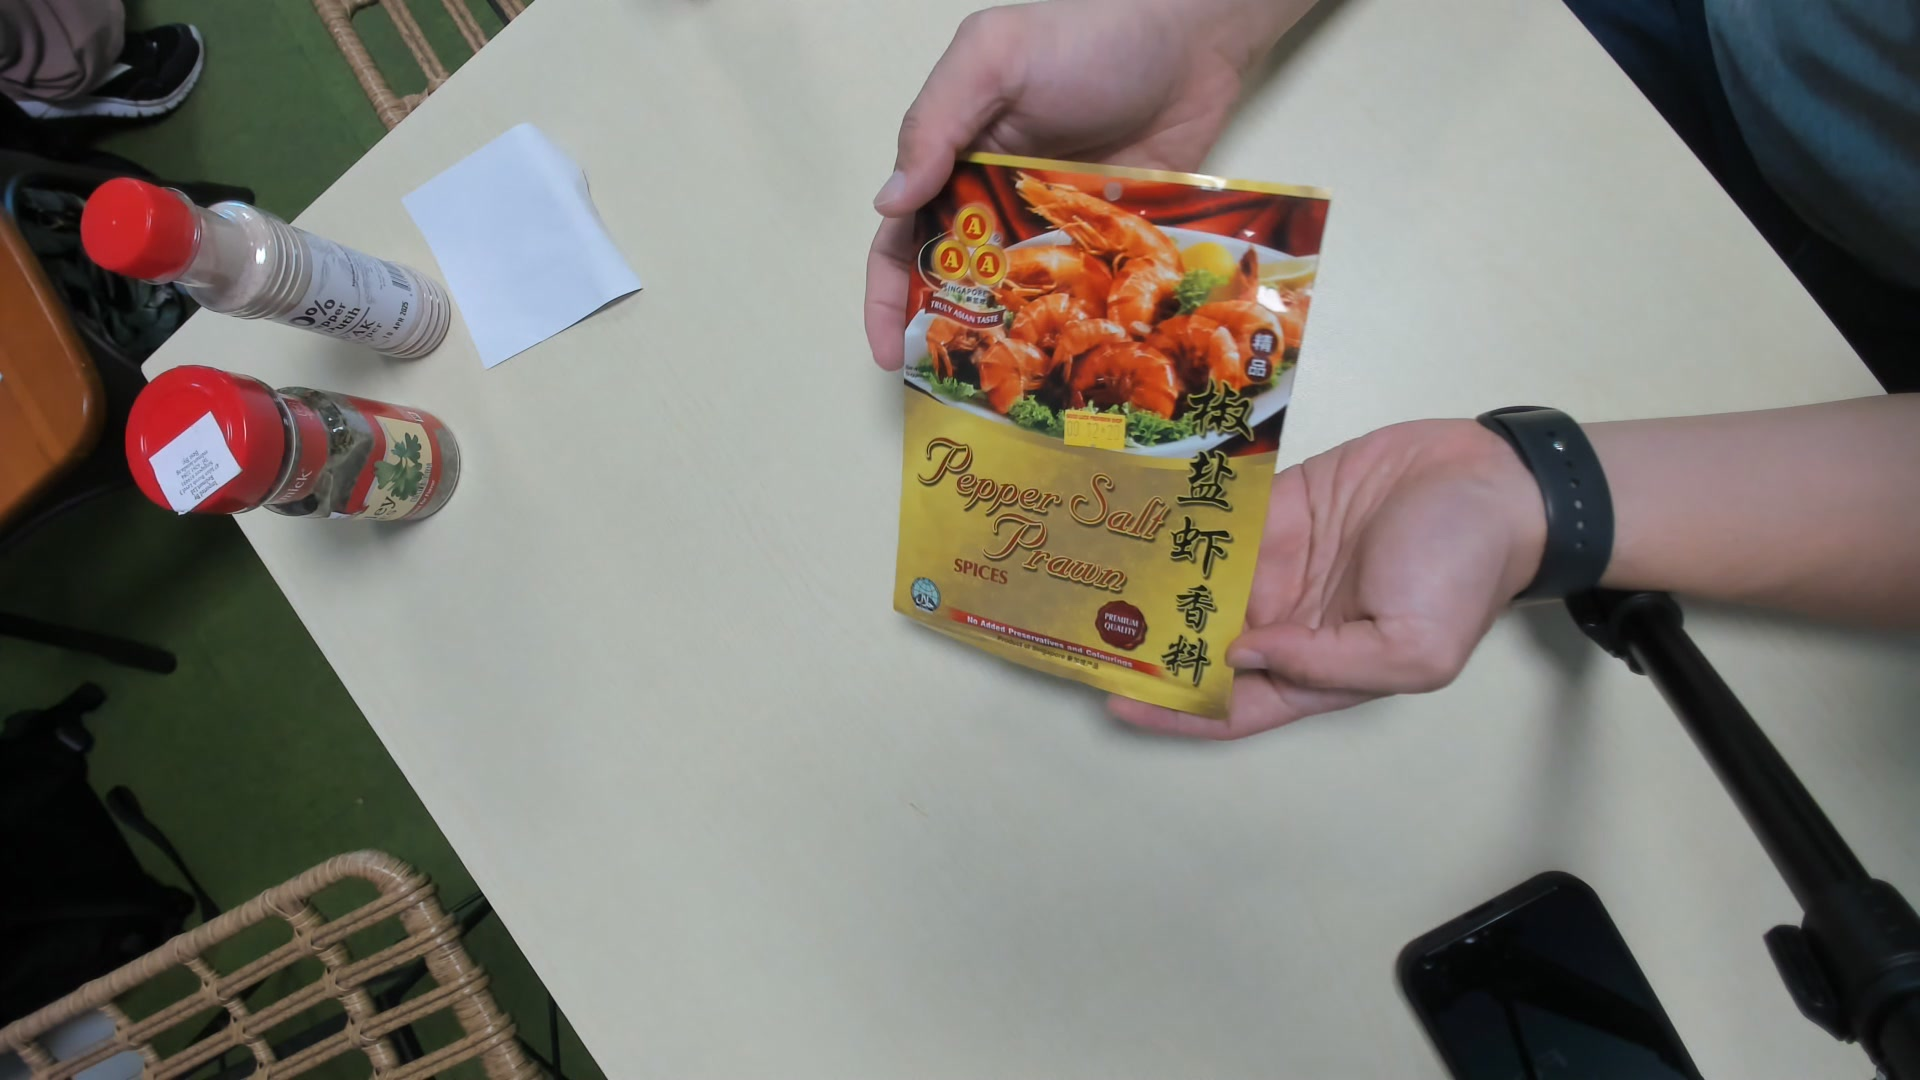HerbsSpicesPepper_400-499g_Halal_NonHealthy: (887, 156, 1328, 731)
